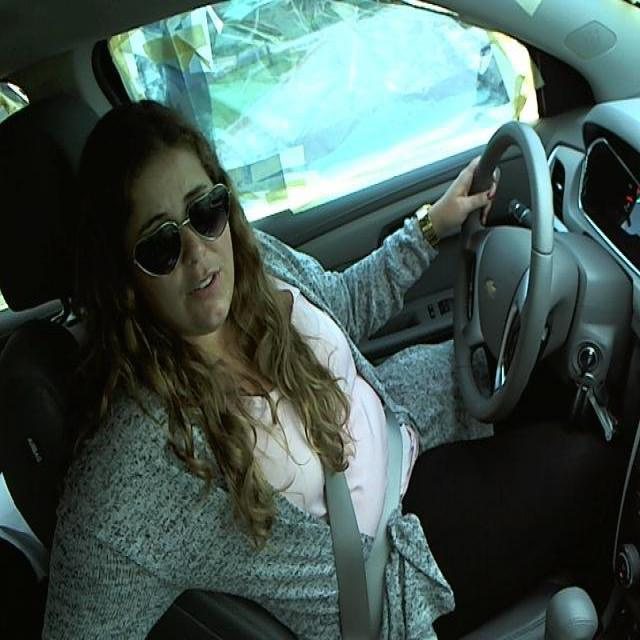seatbelt: (253, 337, 409, 620)
